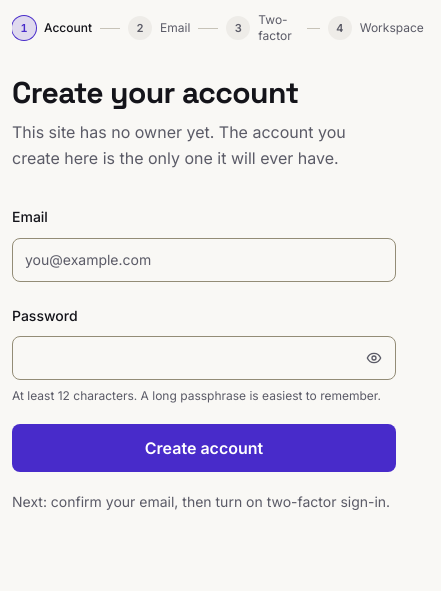
Test: first-run sign-up › holds the owner's password to the same rule as Security
The width and height of the screenshot is (441, 591).
Type "owner@example.com" into the field labelled "Email" at (204, 260), box [12,238,396,282]
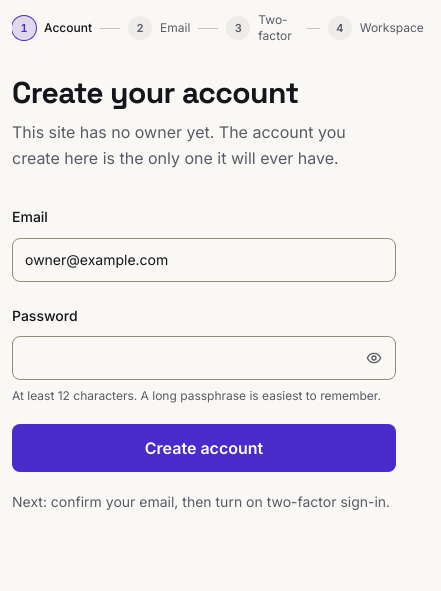
Type "hunter2!" into the password field labelled "Password" at (204, 358), box [12,336,396,380]
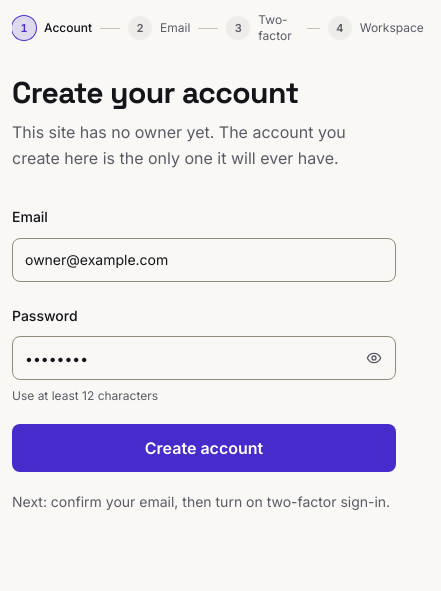
Click the button "Create account" at (204, 448), box [12,424,396,472]
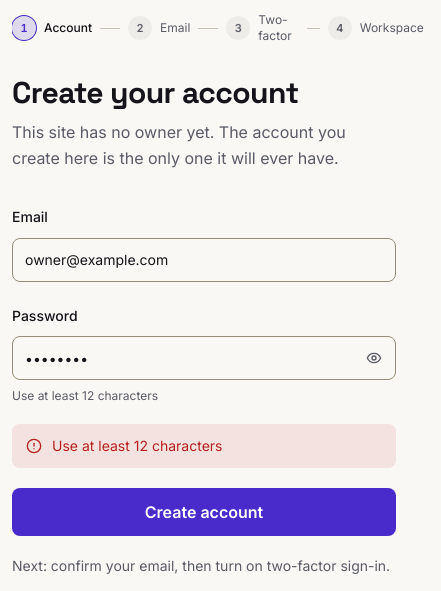
expect the message shows "at least 12 characters": met, box [52,437,222,454]
